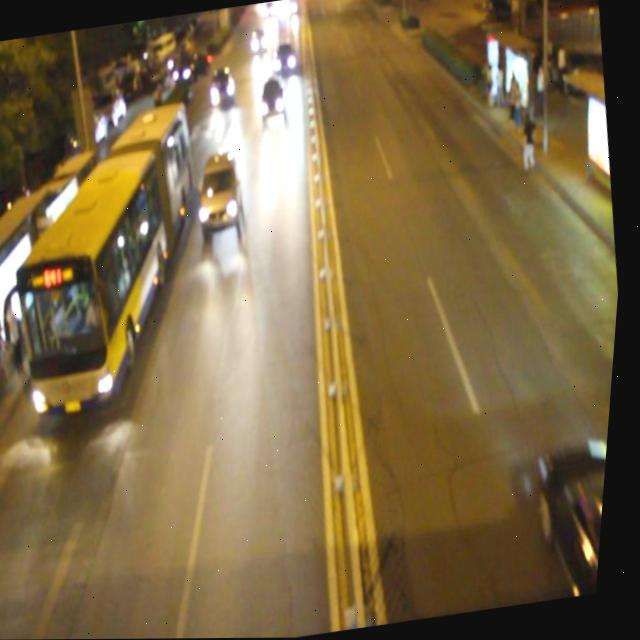car: (534, 433, 615, 602), (207, 63, 239, 108), (258, 76, 289, 121), (270, 39, 299, 77)
truck: (195, 148, 252, 231)
van: (0, 97, 222, 414)
